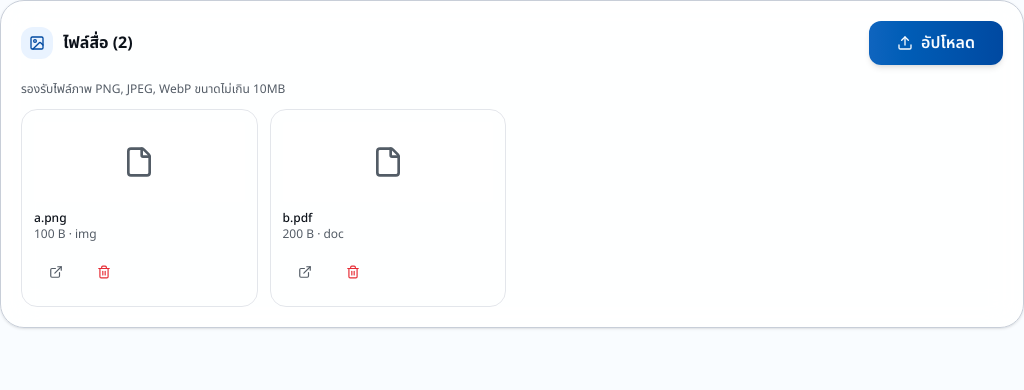
Test: หน้าไฟล์สื่อ — อ่านผ่าน read-url › ปิดแท็บเปล่าและแจ้งเตือนเมื่อขอ read-url ล้มเหลว
Expected: the text "b.pdf" is shown, [282,209,312,227]
Click the button named "เปิด b.pdf" at {"x": 304, "y": 272}, box [282,250,326,294]
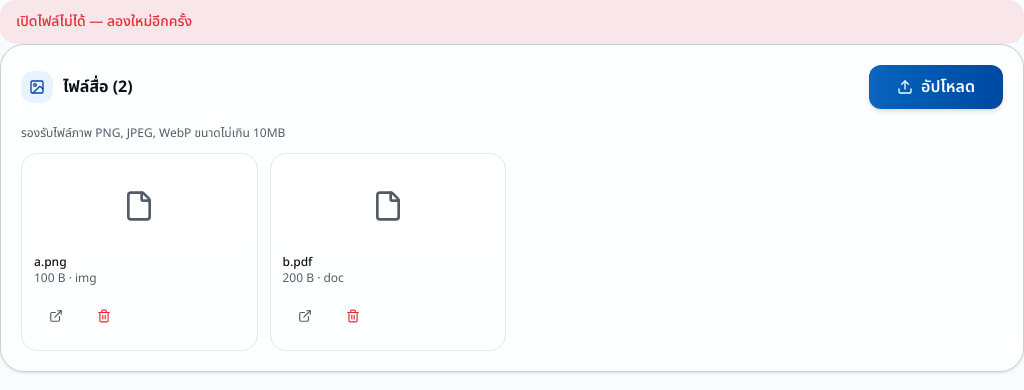
Expected: the message shows "เปิดไฟล์ไม่ได้", [16,11,192,32]
